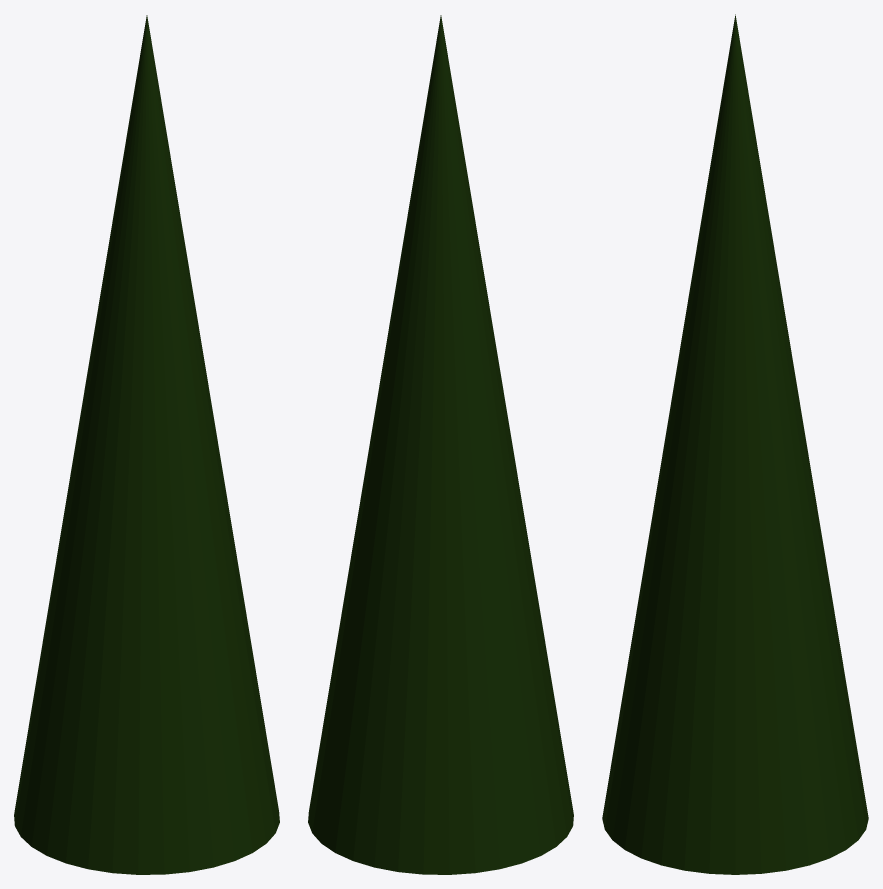
The model's file is needle.fbx.
The picture shows the model from 3 angles, left to right: view 1: azimuth 30°, elevation 25°; view 2: azimuth 150°, elevation 25°; view 3: azimuth 270°, elevation 25°; orthographic projection.
Visible parts, largest first — view 1: Cylinder; view 2: Cylinder; view 3: Cylinder.
Boxes of the visible parts, bbox=[...] form: Cylinder: bbox=[14, 15, 279, 874]; Cylinder: bbox=[308, 15, 573, 874]; Cylinder: bbox=[602, 14, 868, 874].
Bounding box in the file's own units: 200 × 666 × 200.
